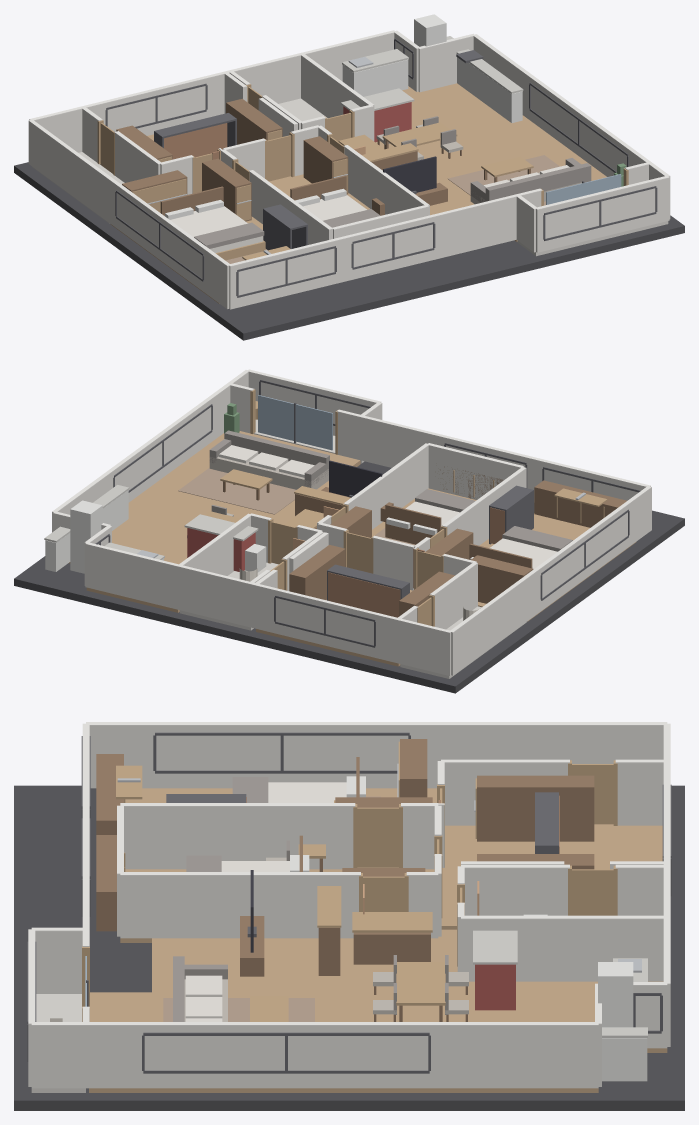
File: poly-home.glb
The picture shows the model from 3 angles, top to bottom: view 1: azimuth 30°, elevation 25°; view 2: azimuth 150°, elevation 25°; view 3: azimuth 270°, elevation 25°; orthographic projection. The views are drawn at different scales.
Visible parts, largest first — view 1: Apartment; view 2: Apartment; view 3: Apartment.
Part boxes in pixels (x1=…): Apartment: x1=14, y1=14, x2=684, y2=340; Apartment: x1=14, y1=369, x2=684, y2=693; Apartment: x1=14, y1=722, x2=684, y2=1110.
Bounding box in the file's own units: 13.02 × 2.06 × 11.72.
